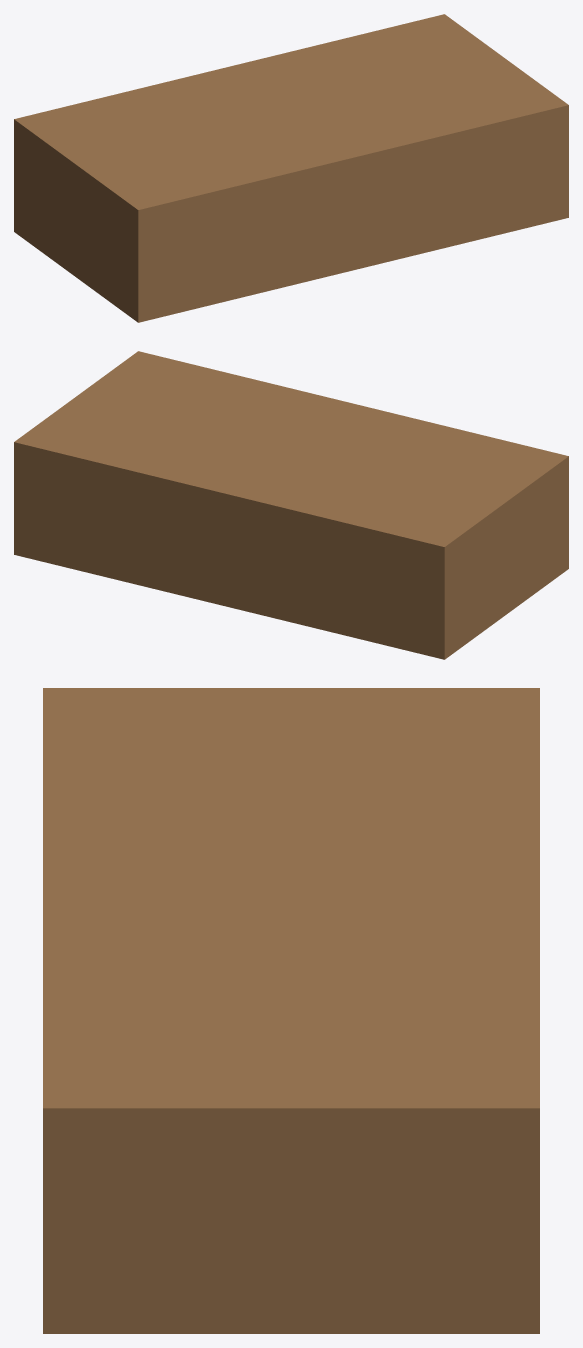
Rendered from walkway_straight.glb.
The picture shows the model from 3 angles, top to bottom: view 1: azimuth 30°, elevation 25°; view 2: azimuth 150°, elevation 25°; view 3: azimuth 270°, elevation 25°; orthographic projection. The views are drawn at different scales.
Visible parts, largest first — view 1: walkway_straight; view 2: walkway_straight; view 3: walkway_straight.
Boxes of the visible parts, left/top/right/bottom form: walkway_straight: left=14, top=14, right=568, bottom=322; walkway_straight: left=14, top=351, right=568, bottom=659; walkway_straight: left=43, top=688, right=539, bottom=1333.
Size of the model in its own units: 1 by 0.25 by 0.5.
Materials: 1 (1 with a texture image).
